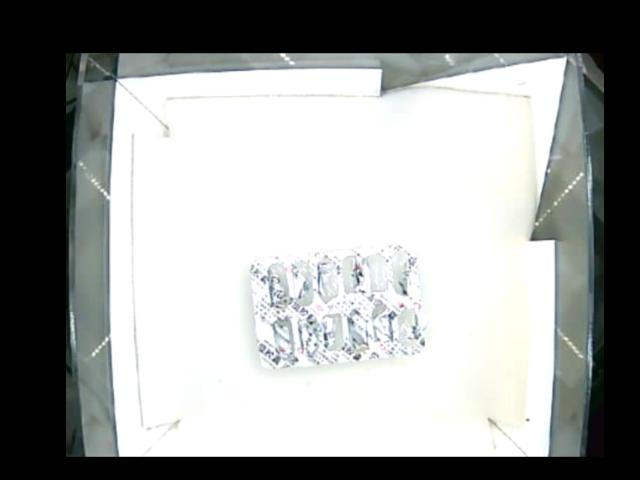Medicine: (249, 243, 424, 370)
